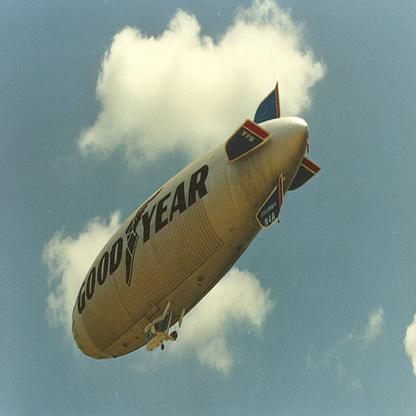Airship: (71, 77, 324, 362)
